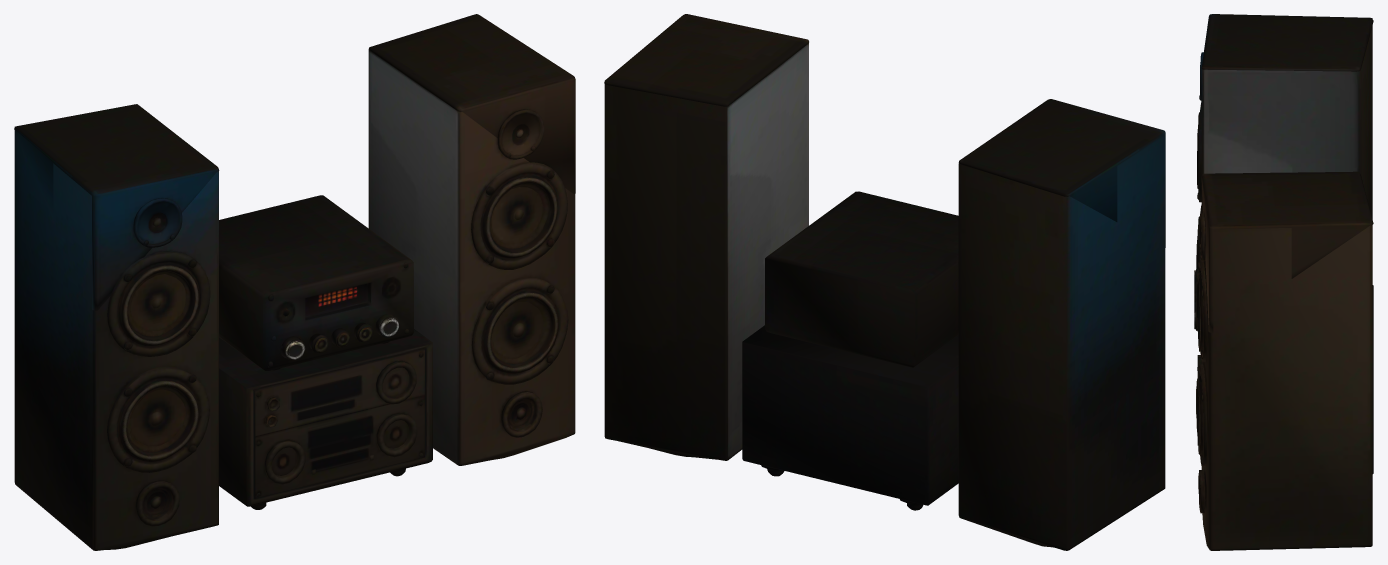
The model's file is hi-fi_sound_system_2a2cc620_v2.glb.
3 views of the same model, side by side, from view 1: azimuth 30°, elevation 25°; view 2: azimuth 150°, elevation 25°; view 3: azimuth 270°, elevation 25° (orthographic). The views are drawn at different scales.
Parts seen in each view (by area): view 1: material; view 2: material; view 3: material.
Boxes of the visible parts, bbox=[...] form: material: bbox=[14, 14, 575, 550]; material: bbox=[604, 14, 1165, 550]; material: bbox=[1194, 14, 1373, 550].
Size of the model in its own units: 1.9 by 1.36 by 0.6739.
1 material, 1 textured.
